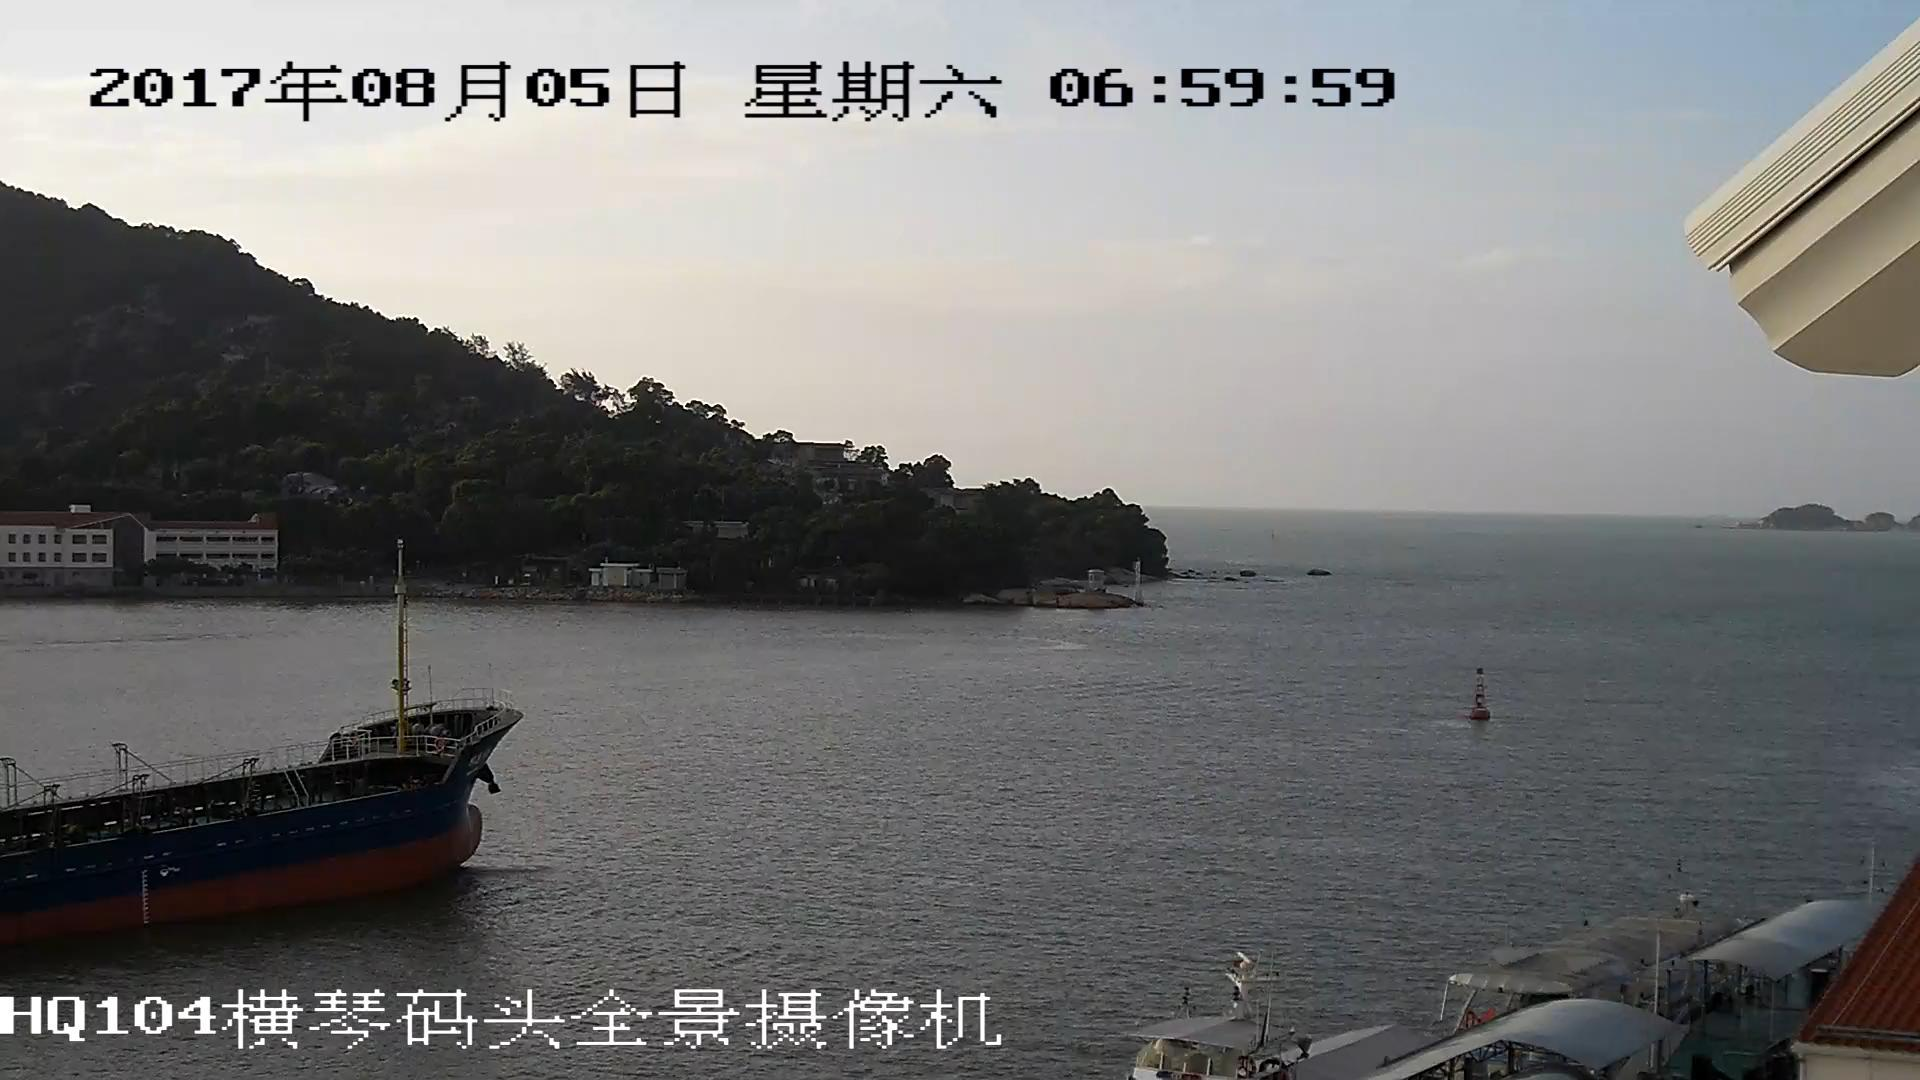Ship: (3, 545, 502, 956)
